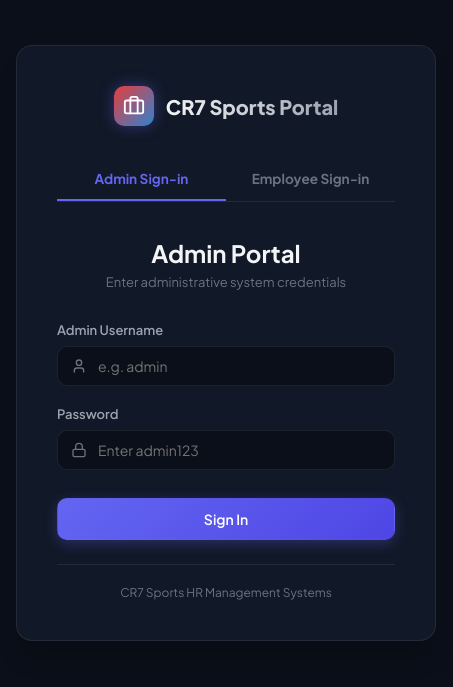
Test: LoginPage › shows error when only username is filled
Type "admin" into the field labelled "Admin Username" at (226, 366), box x1=57 y1=346 x2=395 y2=386
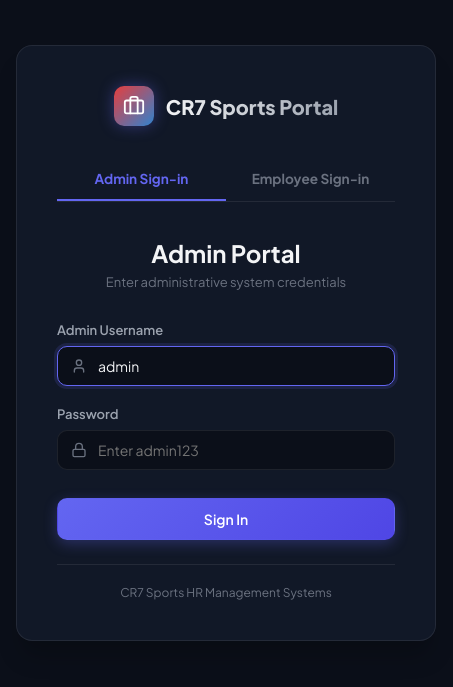
Click the button "Sign In" at (226, 519), box x1=57 y1=498 x2=395 y2=540
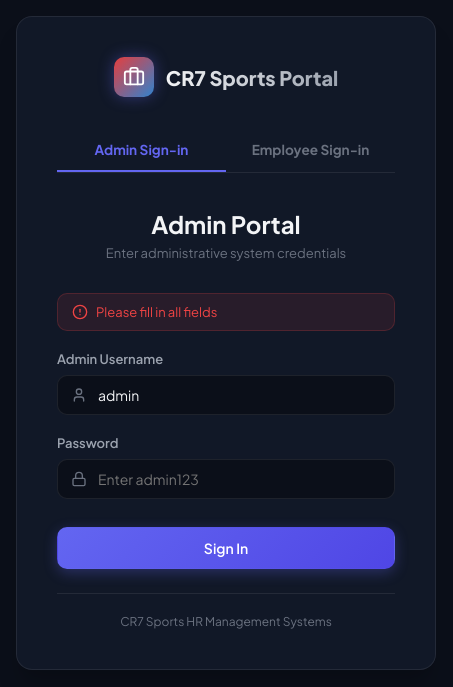
expect the text "Please fill in all fields" is shown: met, box x1=96 y1=304 x2=217 y2=320
